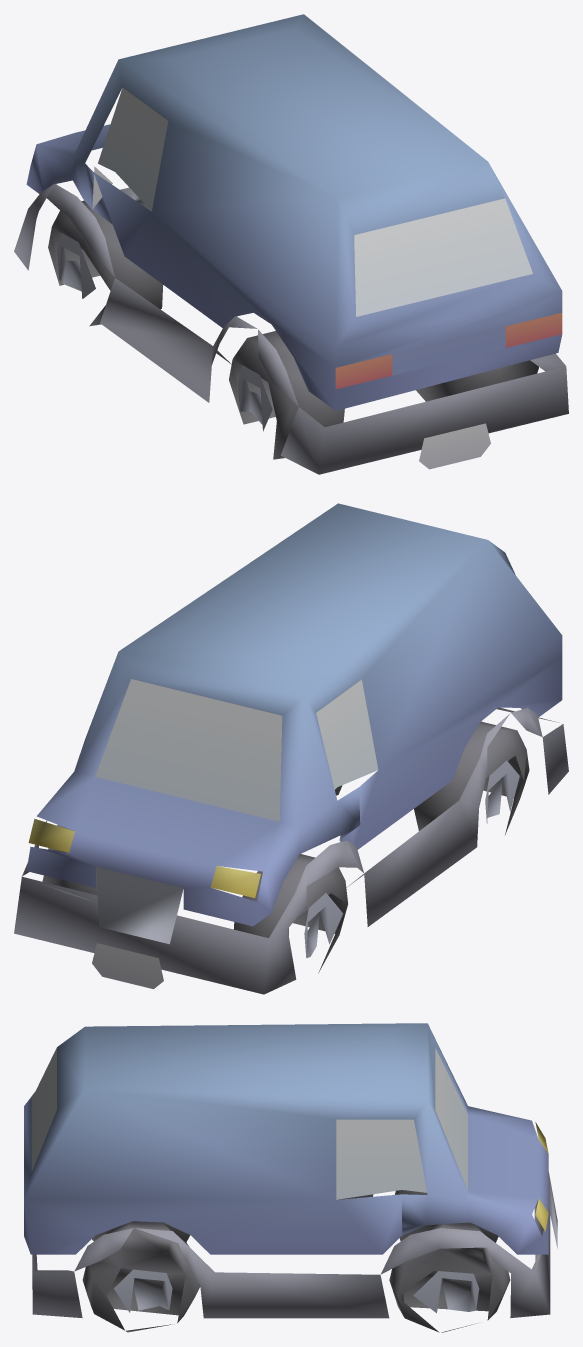
The model's file is car_van_lod1.glb.
The picture shows the model from 3 angles, top to bottom: view 1: azimuth 30°, elevation 25°; view 2: azimuth 150°, elevation 25°; view 3: azimuth 270°, elevation 25°; orthographic projection. The views are drawn at different scales.
Size of the model in its own units: 1.95 by 1.98 by 4.13.
